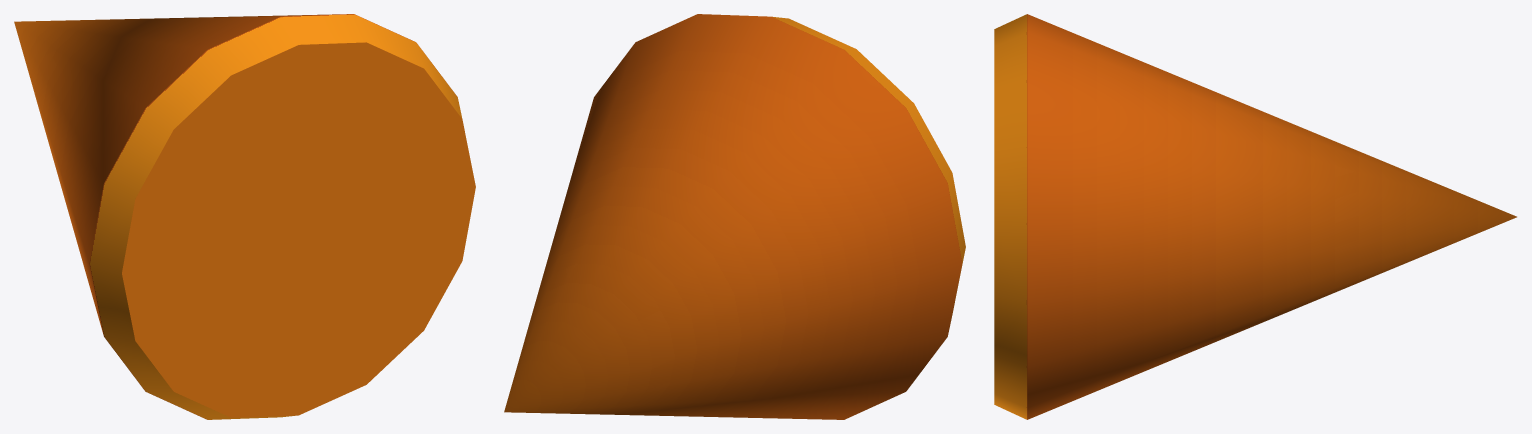
The model's file is zhishi.FBX.
3 renders of one model, left to right at view 1: azimuth 30°, elevation 25°; view 2: azimuth 150°, elevation 25°; view 3: azimuth 270°, elevation 25°, orthographic. The views are drawn at different scales.
Visible parts, largest first — view 1: Cylinder01; view 2: Cylinder01; view 3: Cylinder01.
Boxes of the visible parts, x1,y1,x2,y2 form: Cylinder01: (14, 14, 475, 419); Cylinder01: (504, 14, 965, 419); Cylinder01: (994, 14, 1516, 419).
Bounding box in the file's own units: 0.0348 × 0.0348 × 0.0448.
